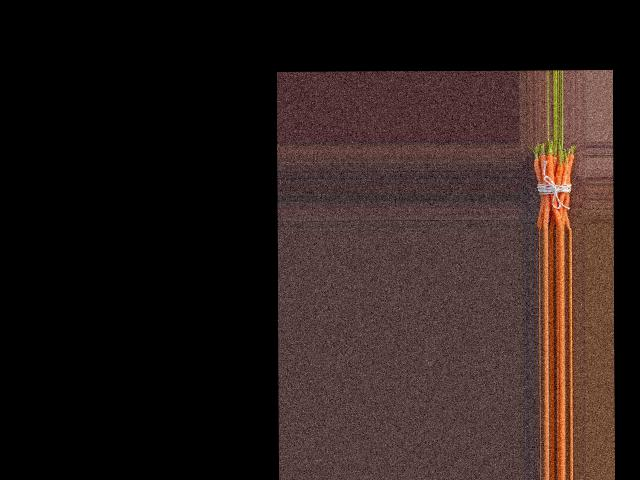carrot: (531, 150, 542, 229)
